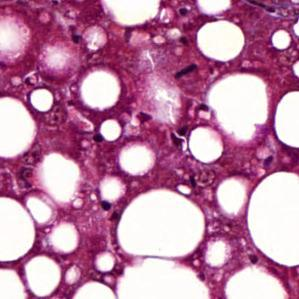steatosis: (195, 20, 246, 61), (81, 69, 120, 109), (100, 119, 122, 142), (271, 29, 291, 49)
